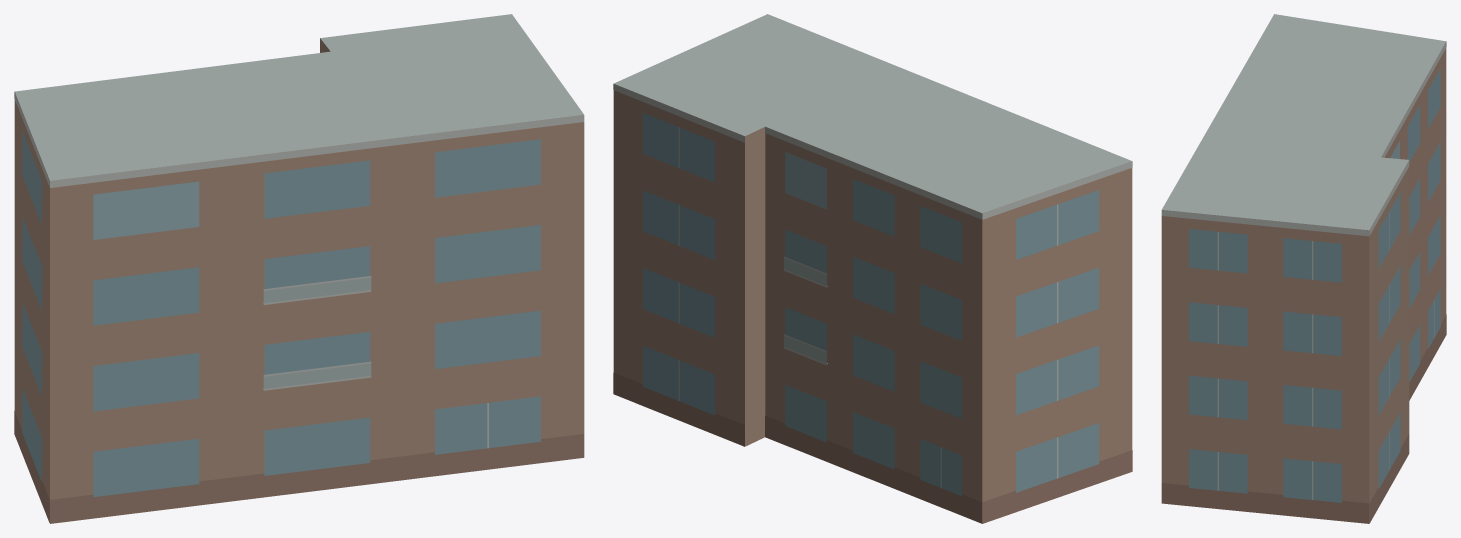
File: survey-upis-32532038.glb
3 renders of one model, left to right at view 1: azimuth 30°, elevation 25°; view 2: azimuth 150°, elevation 25°; view 3: azimuth 270°, elevation 25°, orthographic. The views are drawn at different scales.
Parts seen in each view (by area): view 1: survey-upis-32532038.tmp; view 2: survey-upis-32532038.tmp; view 3: survey-upis-32532038.tmp.
Boxes of the visible parts, x1,y1,x2,y2 form: survey-upis-32532038.tmp: (14,14,584,523); survey-upis-32532038.tmp: (613,14,1132,523); survey-upis-32532038.tmp: (1161,14,1446,523).
Size of the model in its own units: 18.49 by 11.7 by 10.3.
